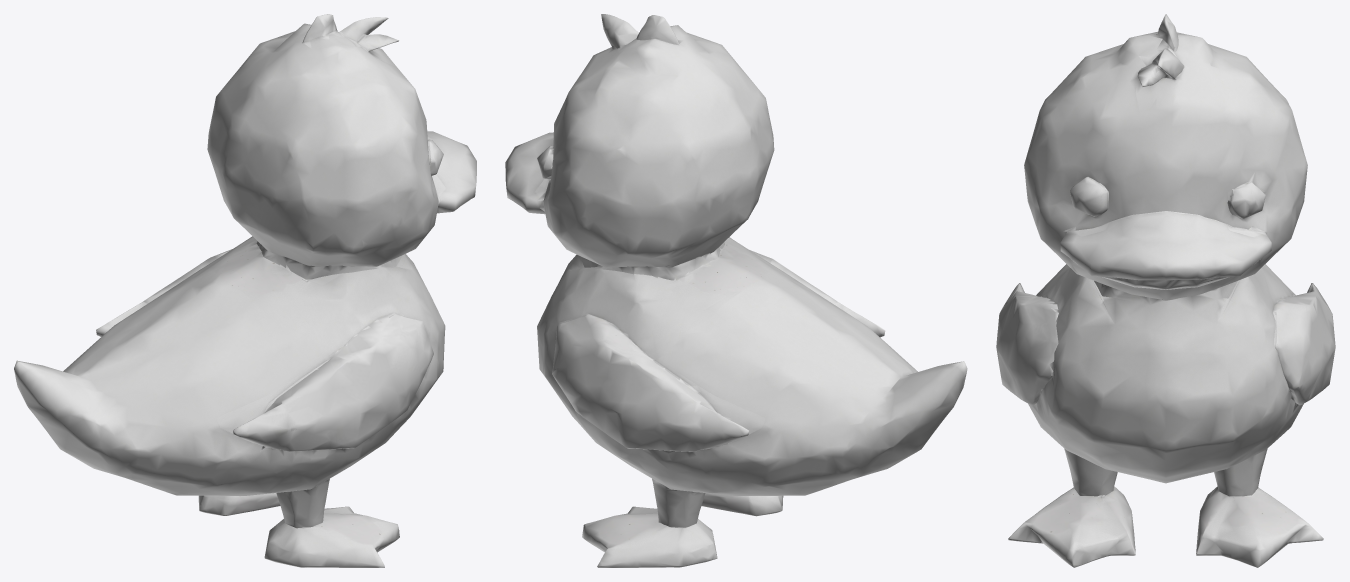
File: statue-小红书.glb
3 views of the same model, side by side, from view 1: azimuth 30°, elevation 25°; view 2: azimuth 150°, elevation 25°; view 3: azimuth 270°, elevation 25° (orthographic). The views are drawn at different scales.
Parts seen in each view (by area): view 1: tripo_part_8, tripo_part_6, tripo_part_0, tripo_part_1, tripo_part_7, tripo_part_4, tripo_part_3, tripo_part_11, tripo_part_5, tripo_part_12; view 2: tripo_part_8, tripo_part_6, tripo_part_12, tripo_part_11, tripo_part_7, tripo_part_9, tripo_part_4, tripo_part_1, tripo_part_5, tripo_part_0; view 3: tripo_part_6, tripo_part_8, tripo_part_7, tripo_part_1, tripo_part_11, tripo_part_0, tripo_part_12, tripo_part_4, tripo_part_9, tripo_part_3, tripo_part_2, tripo_part_10 (+1 smaller).
Part boxes in pixels (<box>): tripo_part_8: <box>14,236,445,495</box>; tripo_part_6: <box>207,23,438,266</box>; tripo_part_0: <box>233,313,433,451</box>; tripo_part_1: <box>264,506,399,567</box>; tripo_part_7: <box>427,131,476,213</box>; tripo_part_4: <box>302,14,398,51</box>; tripo_part_3: <box>276,479,329,528</box>; tripo_part_11: <box>198,493,280,515</box>; tripo_part_5: <box>256,241,402,279</box>; tripo_part_12: <box>96,249,232,336</box>; tripo_part_8: <box>537,237,967,496</box>; tripo_part_6: <box>540,25,774,267</box>; tripo_part_12: <box>552,313,749,451</box>; tripo_part_11: <box>582,506,717,567</box>; tripo_part_7: <box>505,132,553,214</box>; tripo_part_9: <box>652,478,705,527</box>; tripo_part_4: <box>601,14,683,48</box>; tripo_part_1: <box>701,493,783,516</box>; tripo_part_5: <box>578,242,724,280</box>; tripo_part_0: <box>750,250,885,337</box>; tripo_part_6: <box>1024,31,1307,300</box>; tripo_part_8: <box>1028,264,1303,483</box>; tripo_part_7: <box>1060,211,1271,289</box>; tripo_part_1: <box>1008,486,1135,567</box>; tripo_part_11: <box>1196,486,1323,567</box>; tripo_part_0: <box>996,283,1058,405</box>; tripo_part_12: <box>1273,283,1335,405</box>; tripo_part_4: <box>1137,14,1183,86</box>; tripo_part_9: <box>1214,448,1267,496</box>; tripo_part_3: <box>1064,449,1117,496</box>; tripo_part_2: <box>1070,177,1108,216</box>; tripo_part_10: <box>1227,182,1265,218</box>.
Bounding box in the file's own units: 0.9491 × 1 × 0.5754.
Materials: 13 (13 with a texture image).
